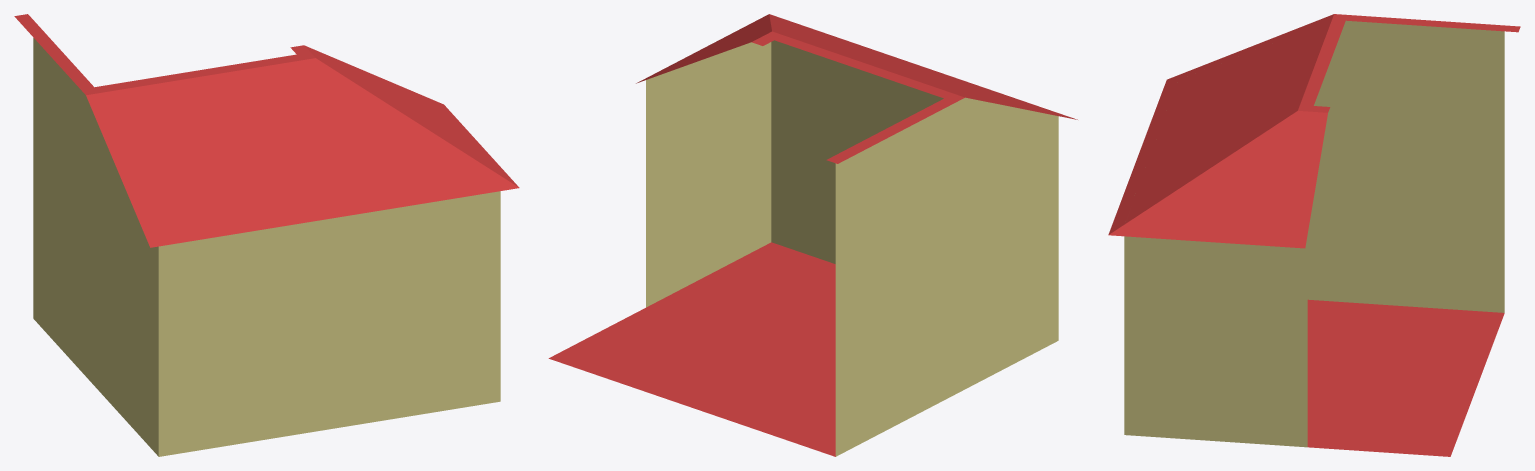
The picture shows the model from 3 angles, left to right: view 1: azimuth 30°, elevation 25°; view 2: azimuth 150°, elevation 25°; view 3: azimuth 270°, elevation 25°; orthographic projection. The views are drawn at different scales.
Bounding box in the file's own units: 14.65 × 14.79 × 11.14.
